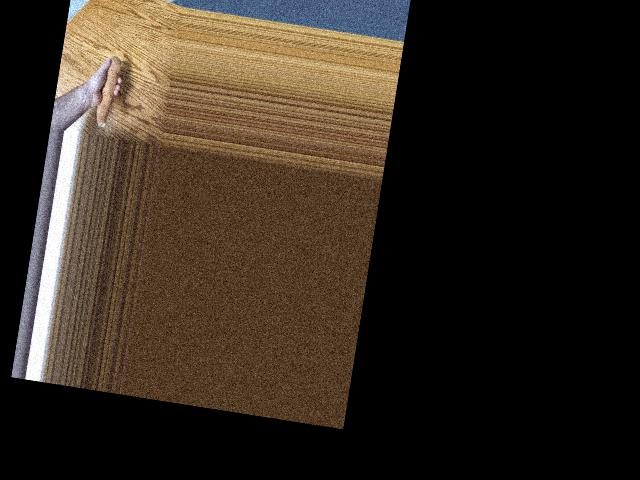sweet_potato: (88, 53, 123, 131)
